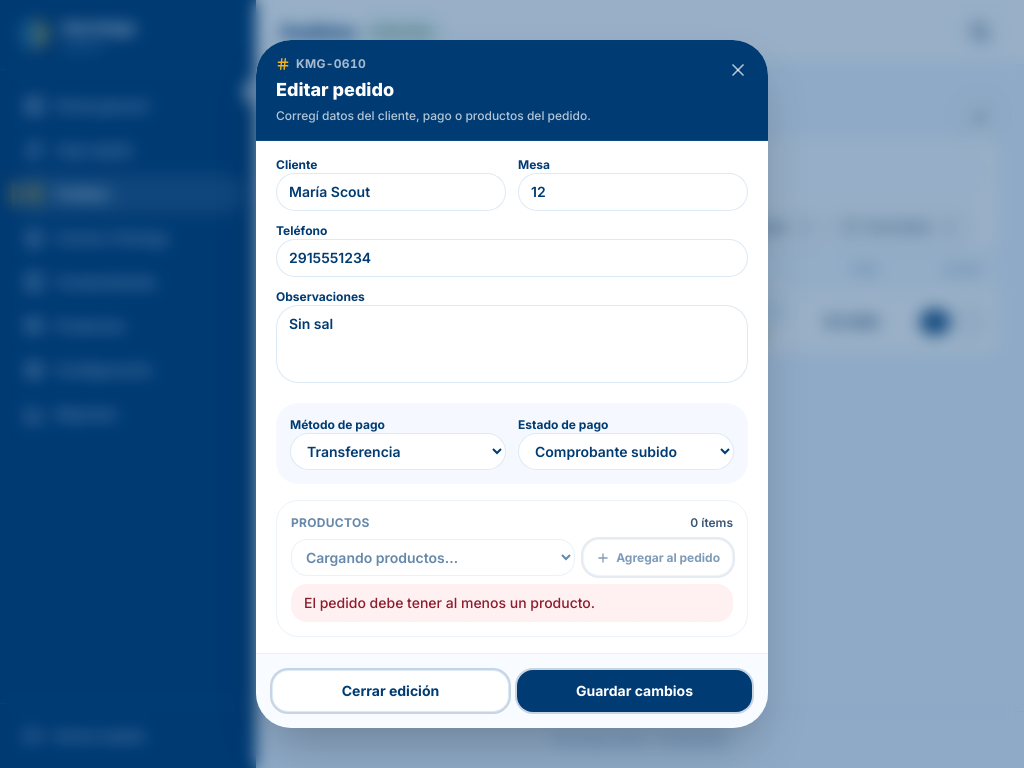
it: OrdersScreen › Edit order modal foundation › opens an edit modal with selected order data and closes it
Earlier steps of the test are not shown.
Expected: the dialog "Editar pedido" is shown, [256,40,768,728]
Expected: the field showing "María Scout" is shown, [276,173,506,211]
Click the button "Cerrar edición": (390, 691) [272,670,509,712]
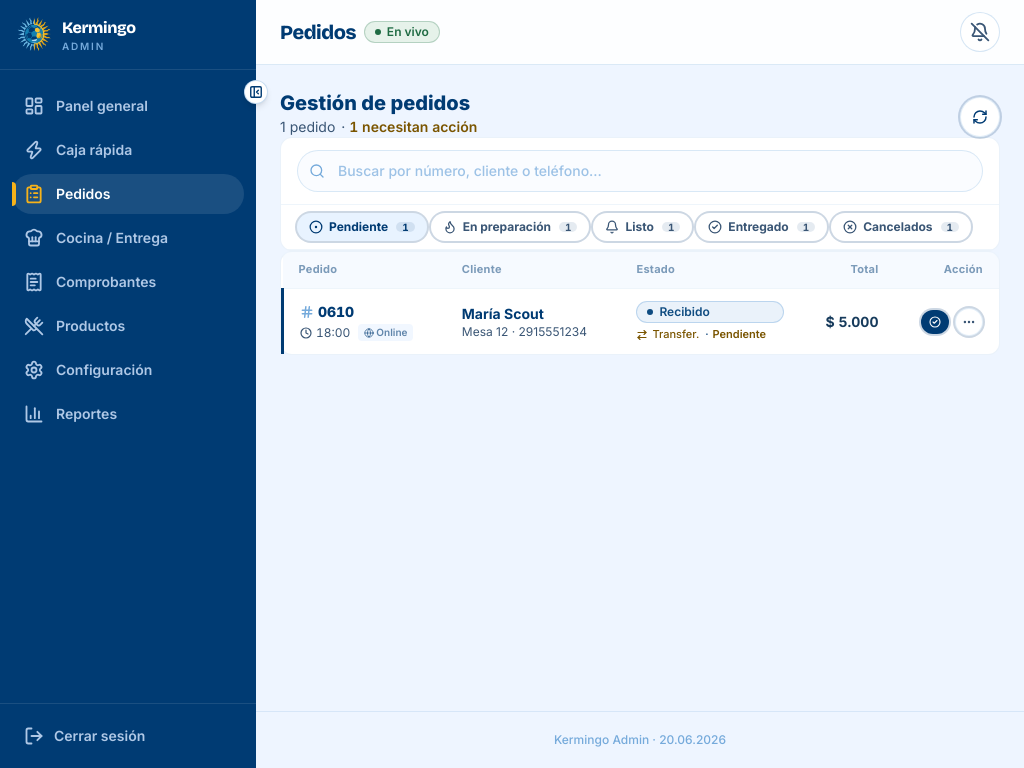
Now the heading "Editar pedido" is gone
